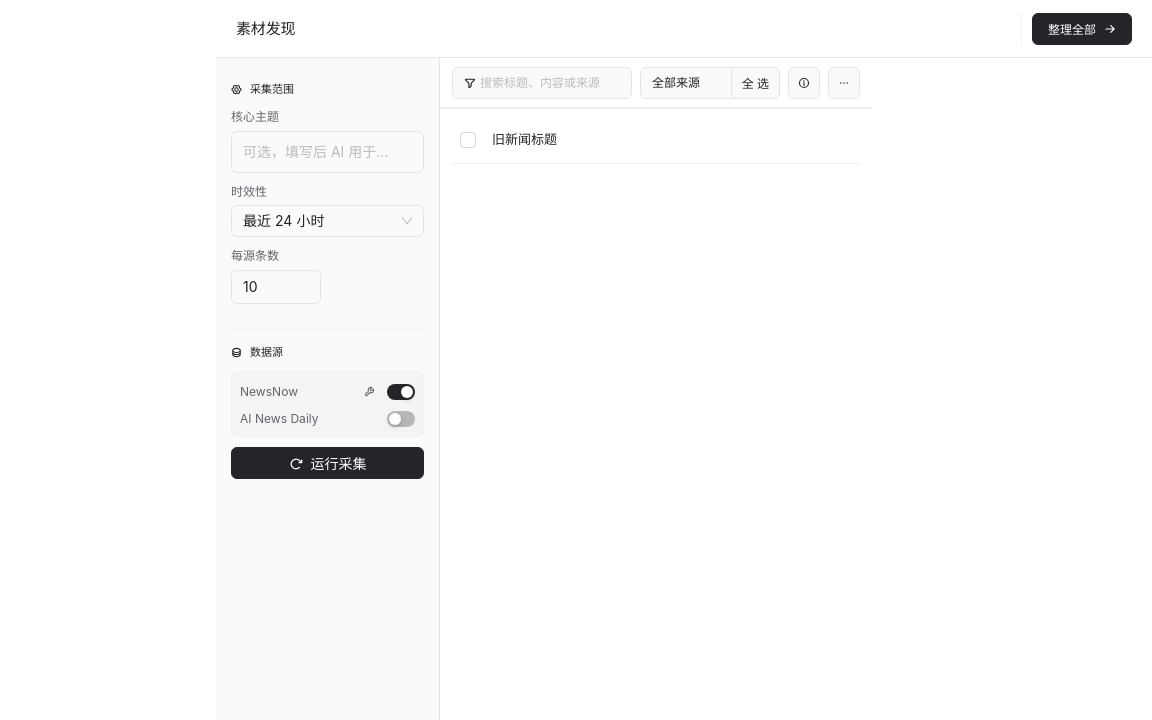
Test: DiscoverPanel source loading › clears previous items immediately when rerunning discovery
Expected: the heading "旧新闻标题" is shown, [492,131,557,147]
Expected: the text "NewsNow" is shown, [240,383,298,401]
Step 1. Click the button "运行采集" → (328, 464), box [231,448,424,480]
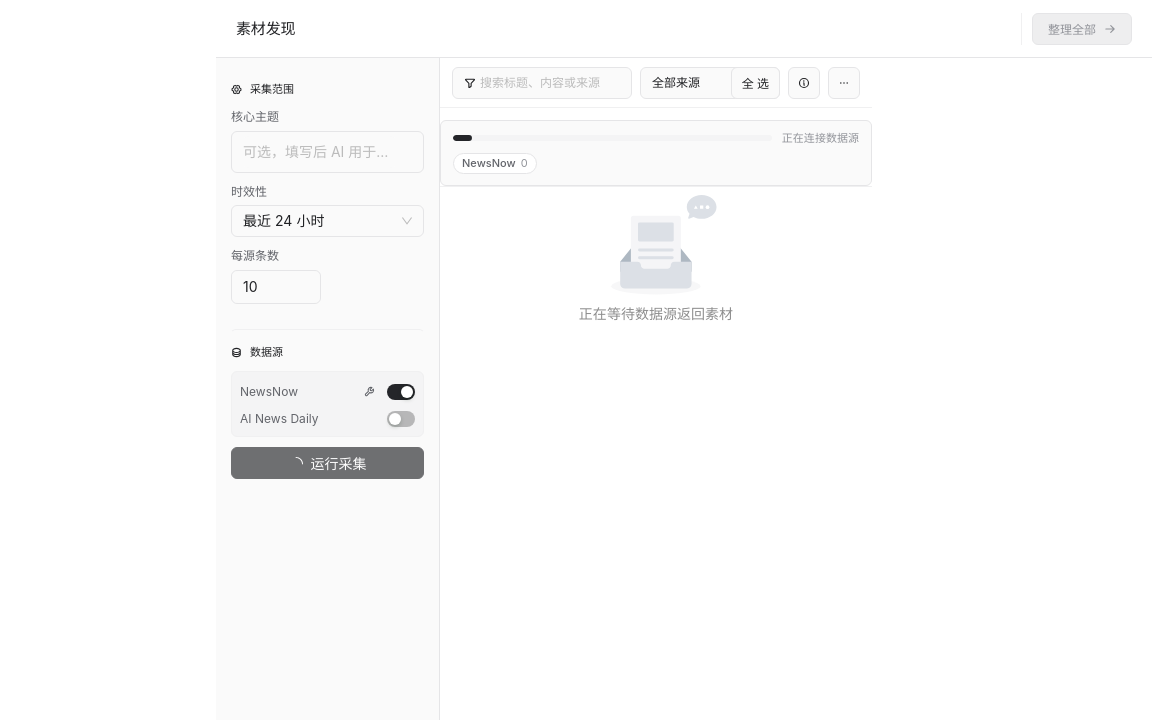
Now the option "旧新闻标题" is gone
